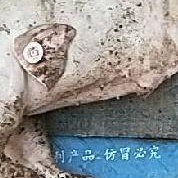text: (14, 31, 53, 70)
